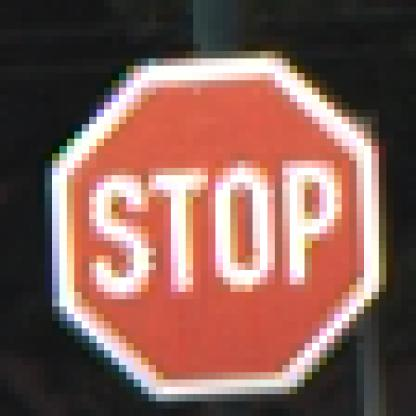Stop: (59, 67, 378, 389)
